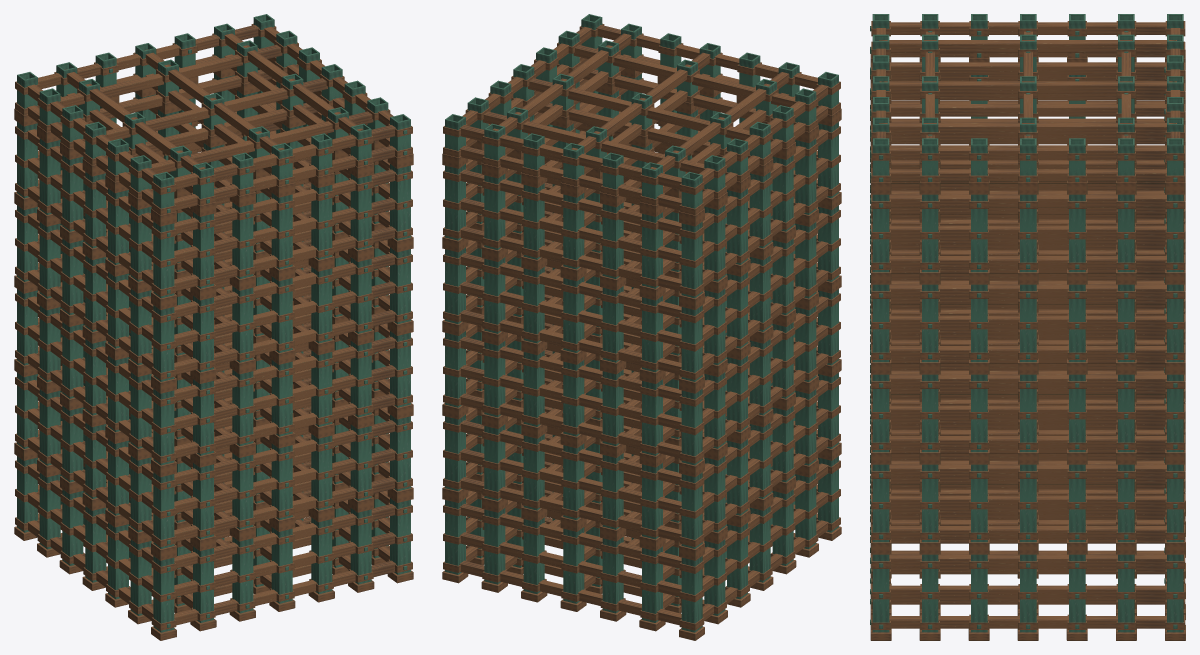
3 renders of one model, left to right at view 1: azimuth 30°, elevation 25°; view 2: azimuth 150°, elevation 25°; view 3: azimuth 270°, elevation 25°, orthographic. The views are drawn at different scales.
Visible parts, largest first — view 1: Tier 5 internal tie 0-0-0-0.75, Tier 5 internal tie 0-0.56-0-0.75, Tier 5 internal tie 0--0.56-0-0.75, Tier 4 tie 0-0-0.5, Tier 3 tie 0-0-0.16, Tier 0 tie 0-0-0.5, Tier 1 tie 0-0-0.5, Tier 2 tie 0-0-0.16, Tier 4 tie 0-0-0.16, Tier 0 tie 0-0-0.16, Tier 2 tie 0-0-0.5, Tier 3 tie 0-0-0.5 (+103 smaller); view 2: Tier 5 internal tie 0-0-0-0.75, Tier 5 internal tie 0--0.56-0-0.75, Tier 5 internal tie 0-0.56-0-0.75, Tier 4 tie 2-0-0.5, Tier 3 tie 2-0-0.16, Tier 0 tie 2-0-0.5, Tier 1 tie 2-0-0.5, Tier 2 tie 2-0-0.16, Tier 4 tie 2-0-0.16, Tier 0 tie 2-0-0.16, Tier 2 tie 2-0-0.5, Tier 3 tie 2-0-0.5 (+103 smaller); view 3: Tier 5 internal tie 1-0-0-0.75, Tier 5 internal tie 1--0.56-0-0.75, Tier 5 internal tie 1-0.56-0-0.75, Tier 5 internal tie 1--0.56-0-0.25, Tier 5 internal tie 1-0-0-0.25, Tier 5 tie 1-0-0.75, Tier 5 tie 3-0-0.75, Tier 0 tie 1-0-0.5, Tier 1 tie 1-0-0.5, Tier 2 tie 1-0-0.5, Tier 3 tie 1-0-0.5, Tier 4 tie 1-0-0.5 (+105 smaller).
Part boxes in pixels (x1=…): Tier 5 internal tie 0-0-0-0.75: x1=106, y1=78, x2=327, y2=140; Tier 5 internal tie 0-0.56-0-0.75: x1=60, y1=44, x2=282, y2=107; Tier 5 internal tie 0--0.56-0-0.75: x1=151, y1=111, x2=373, y2=173; Tier 4 tie 0-0-0.5: x1=174, y1=198, x2=396, y2=262; Tier 3 tie 0-0-0.16: x1=174, y1=310, x2=396, y2=374; Tier 0 tie 0-0-0.5: x1=174, y1=532, x2=395, y2=596; Tier 1 tie 0-0-0.5: x1=174, y1=448, x2=396, y2=513; Tier 2 tie 0-0-0.16: x1=174, y1=393, x2=396, y2=458; Tier 4 tie 0-0-0.16: x1=174, y1=226, x2=396, y2=290; Tier 0 tie 0-0-0.16: x1=174, y1=560, x2=396, y2=625; Tier 2 tie 0-0-0.5: x1=174, y1=365, x2=396, y2=429; Tier 3 tie 0-0-0.5: x1=174, y1=281, x2=396, y2=346; Tier 5 internal tie 0-0-0-0.75: x1=528, y1=78, x2=749, y2=140; Tier 5 internal tie 0--0.56-0-0.75: x1=573, y1=44, x2=795, y2=107; Tier 5 internal tie 0-0.56-0-0.75: x1=482, y1=111, x2=704, y2=173; Tier 4 tie 2-0-0.5: x1=459, y1=198, x2=681, y2=262; Tier 3 tie 2-0-0.16: x1=459, y1=310, x2=681, y2=374; Tier 0 tie 2-0-0.5: x1=460, y1=532, x2=681, y2=596; Tier 1 tie 2-0-0.5: x1=459, y1=448, x2=681, y2=513; Tier 2 tie 2-0-0.16: x1=459, y1=393, x2=681, y2=458; Tier 4 tie 2-0-0.16: x1=459, y1=226, x2=681, y2=290; Tier 0 tie 2-0-0.16: x1=459, y1=560, x2=681, y2=625; Tier 2 tie 2-0-0.5: x1=459, y1=365, x2=681, y2=429; Tier 3 tie 2-0-0.5: x1=459, y1=281, x2=681, y2=346; Tier 5 internal tie 1-0-0-0.75: x1=879, y1=81, x2=1176, y2=93; Tier 5 internal tie 1--0.56-0-0.75: x1=879, y1=40, x2=1176, y2=52; Tier 5 internal tie 1-0.56-0-0.75: x1=879, y1=123, x2=1176, y2=135; Tier 5 internal tie 1--0.56-0-0.25: x1=889, y1=62, x2=1166, y2=74; Tier 5 internal tie 1-0-0-0.25: x1=891, y1=104, x2=1165, y2=116; Tier 5 tie 1-0-0.75: x1=889, y1=146, x2=1166, y2=159; Tier 5 tie 3-0-0.75: x1=889, y1=22, x2=1166, y2=34; Tier 0 tie 1-0-0.5: x1=889, y1=585, x2=1166, y2=597; Tier 1 tie 1-0-0.5: x1=889, y1=495, x2=1166, y2=507; Tier 2 tie 1-0-0.5: x1=889, y1=405, x2=1166, y2=417; Tier 3 tie 1-0-0.5: x1=889, y1=315, x2=1166, y2=327; Tier 4 tie 1-0-0.5: x1=889, y1=225, x2=1166, y2=237.
Bounding box in the file's own units: 1.8 × 3.12 × 1.8.
Materials: 2 (2 with a texture image).
